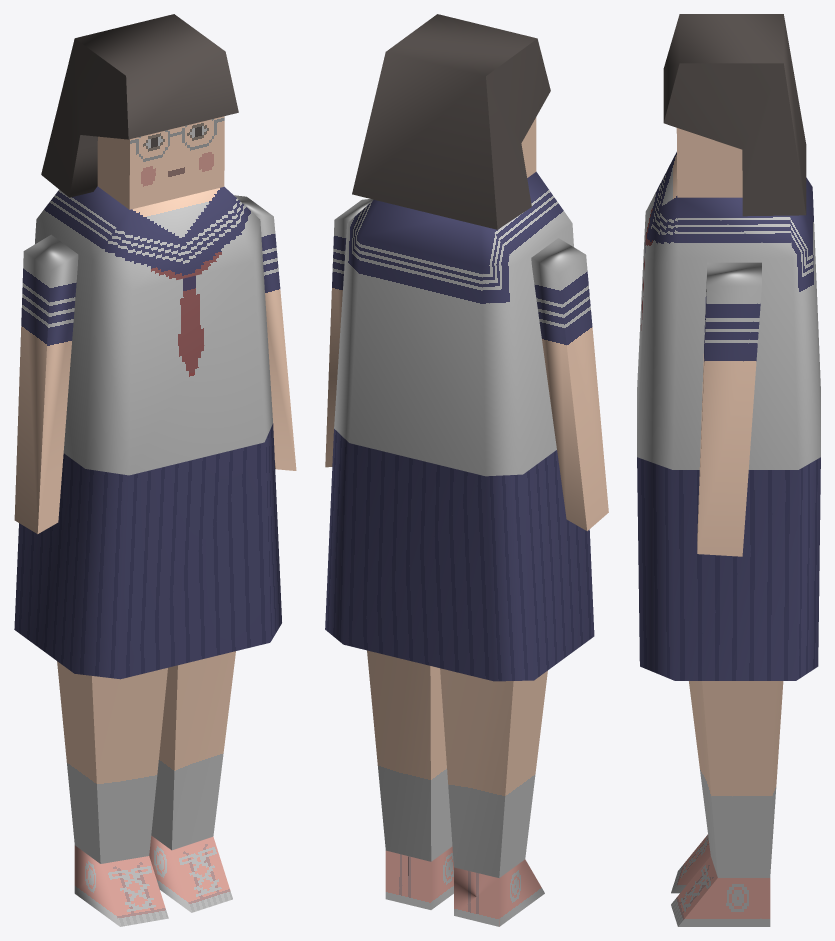
The model's file is 057b_Summer_Schoolgirl.glb.
The picture shows the model from 3 angles, left to right: view 1: azimuth 30°, elevation 25°; view 2: azimuth 150°, elevation 25°; view 3: azimuth 270°, elevation 25°; orthographic projection.
Visible parts, largest first — view 1: part_0; view 2: part_0; view 3: part_0.
Boxes of the visible parts, bbox=[...] form: part_0: bbox=[14, 14, 296, 926]; part_0: bbox=[325, 14, 608, 926]; part_0: bbox=[637, 14, 820, 926].
Bounding box in the file's own units: 0.4772 × 1.49 × 0.2881.
1 material, 1 textured.
